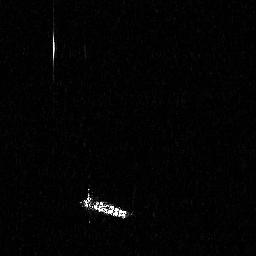ship: (77, 186, 135, 226)
